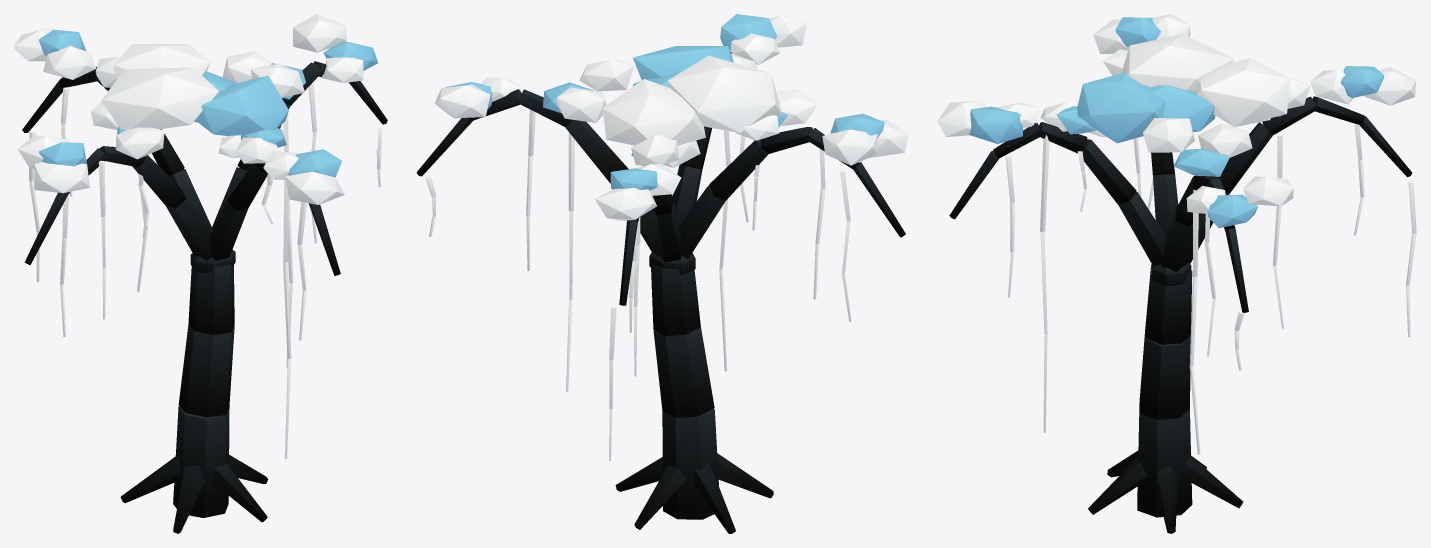
Rendered from black_tree_b.glb.
3 views of the same model, side by side, from view 1: azimuth 30°, elevation 25°; view 2: azimuth 150°, elevation 25°; view 3: azimuth 270°, elevation 25° (orthographic). The views are drawn at different scales.
Visible parts, largest first — view 1: black_tree_b; view 2: black_tree_b; view 3: black_tree_b.
Part boxes in pixels (x1,y1,x2,y2): black_tree_b: (14,14,387,533); black_tree_b: (416,14,908,533); black_tree_b: (937,14,1416,533).
Size of the model in its own units: 6.76 by 6.77 by 6.63.
Materials: 3 (3 with a texture image).
